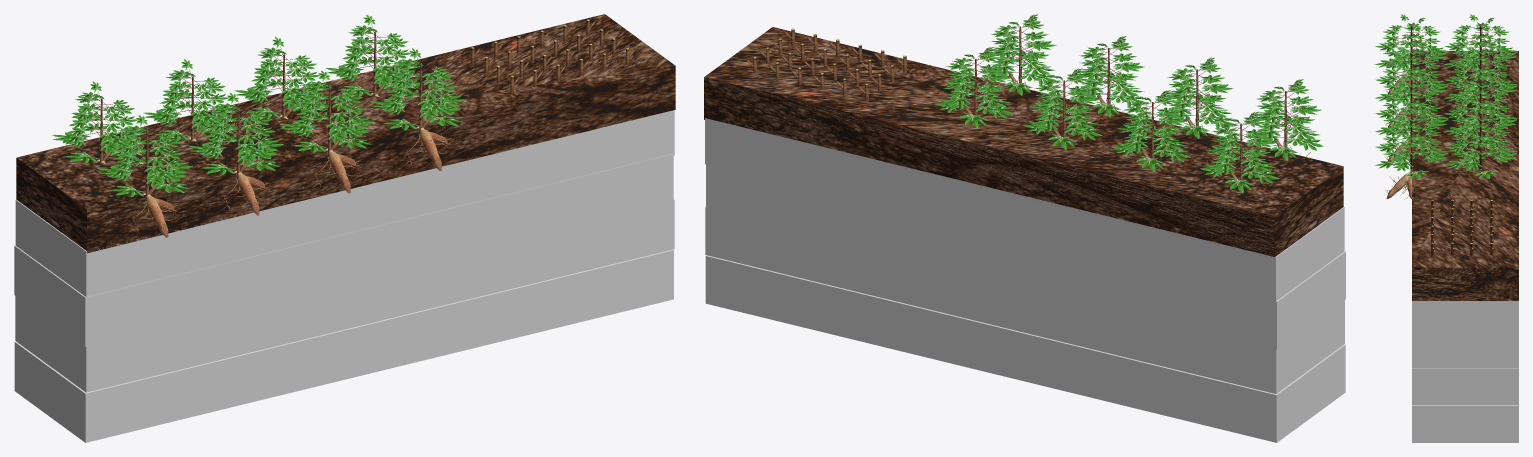
The model's file is singkong.fbx.
3 renders of one model, left to right at view 1: azimuth 30°, elevation 25°; view 2: azimuth 150°, elevation 25°; view 3: azimuth 270°, elevation 25°, orthographic. The views are drawn at different scales.
Visible parts, largest first — view 1: mesh_id45, mesh_id45.001, Cylinder, Cylinder.003; view 2: mesh_id45, mesh_id45.001, Cylinder.003, Cylinder; view 3: mesh_id45.001, mesh_id45, Cylinder, Cylinder.003, Cylinder.005, Cylinder.004, Cylinder.002, Cylinder.001.
Boxes of the visible parts, x1,y1,x2,y2 form: mesh_id45: (14, 110, 674, 442); mesh_id45.001: (16, 14, 675, 253); Cylinder: (97, 48, 466, 237); Cylinder.003: (52, 14, 419, 163); mesh_id45: (705, 118, 1345, 442); mesh_id45.001: (704, 27, 1343, 256); Cylinder.003: (935, 47, 1279, 192); Cylinder: (980, 14, 1323, 160); mesh_id45.001: (1412, 51, 1518, 300); mesh_id45: (1412, 301, 1518, 442); Cylinder: (1374, 14, 1448, 199); Cylinder.003: (1443, 14, 1517, 178); Cylinder.005: (1490, 200, 1493, 255); Cylinder.004: (1470, 200, 1473, 255); Cylinder.002: (1451, 199, 1454, 255); Cylinder.001: (1431, 200, 1434, 255).
Size of the model in its own units: 50.82 by 25.22 by 14.29.
12 materials, 5 textured.
